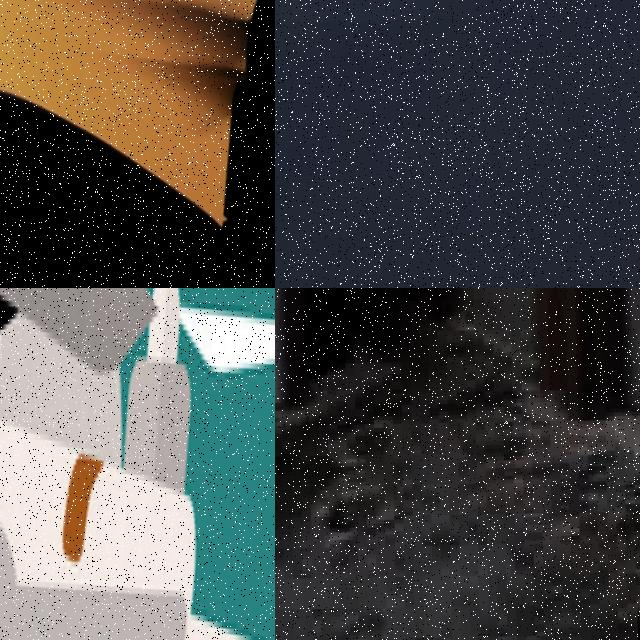drone: (0, 288, 275, 640), (0, 0, 275, 288)
